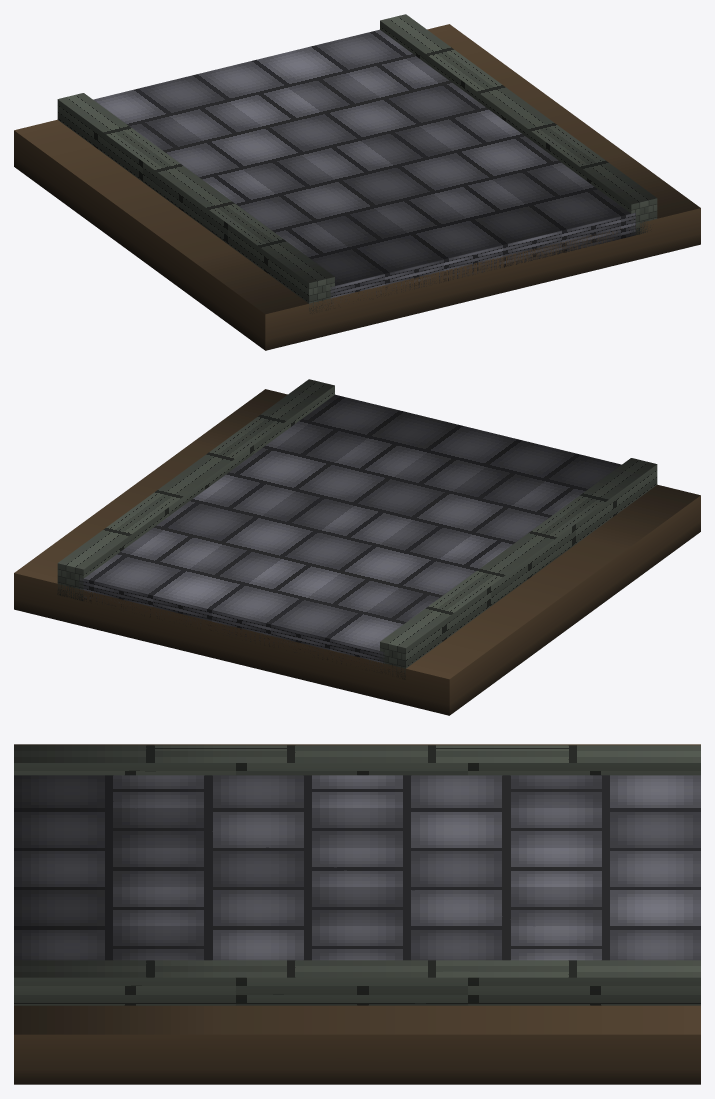
The model's file is road_straight.gltf.
The picture shows the model from 3 angles, top to bottom: view 1: azimuth 30°, elevation 25°; view 2: azimuth 150°, elevation 25°; view 3: azimuth 270°, elevation 25°; orthographic projection. The views are drawn at different scales.
Parts seen in each view (by area): view 1: road_straight; view 2: road_straight; view 3: road_straight.
Boxes of the visible parts, x1,y1,x2,y2 form: road_straight: (14,14,700,350); road_straight: (14,379,700,715); road_straight: (14,744,700,1084).
Size of the model in its own units: 1 by 0.125 by 1.
1 material, 1 textured.
